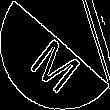M_NE: (24, 21, 86, 89)
